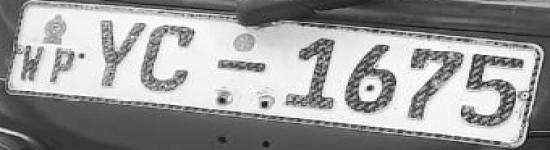-: (213, 55, 270, 77)
1: (278, 32, 343, 113)
2: (20, 44, 46, 83)
3: (47, 46, 79, 86)
5: (461, 51, 527, 131)
6: (339, 40, 400, 116)
7: (398, 42, 466, 127)
C: (139, 23, 198, 95)
Y: (94, 14, 147, 88)
